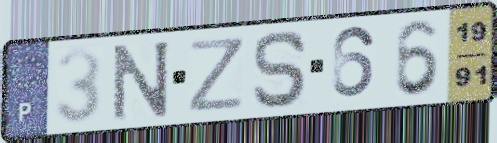3: (52, 43, 105, 129)
6: (392, 17, 441, 100), (330, 23, 378, 104)
N: (111, 37, 173, 124)
S: (250, 28, 311, 111)
Z: (186, 34, 249, 115)
